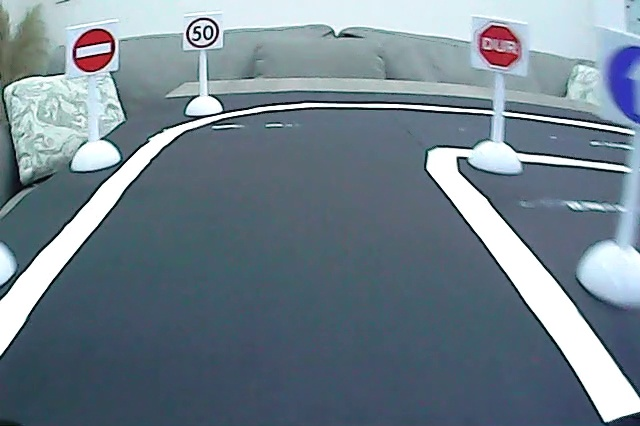do not enter: (72, 25, 117, 75)
speed limit 50: (185, 16, 221, 50)
stop sign: (474, 20, 523, 71)
